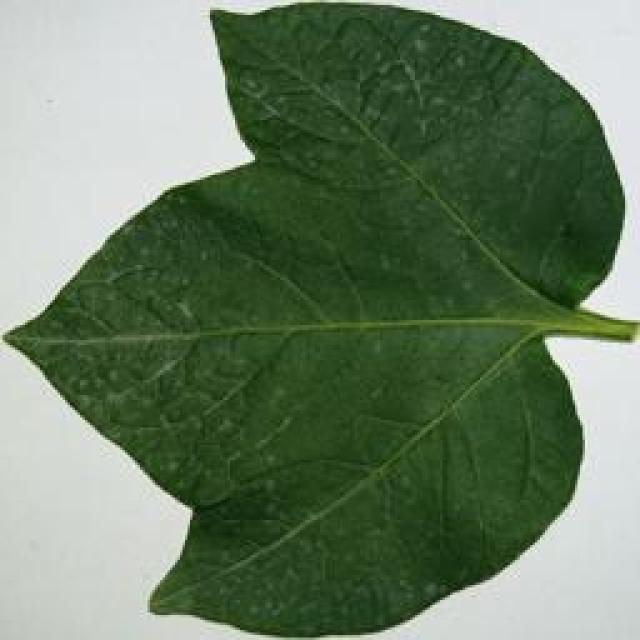Potato_Healthy: (2, 4, 627, 631)
